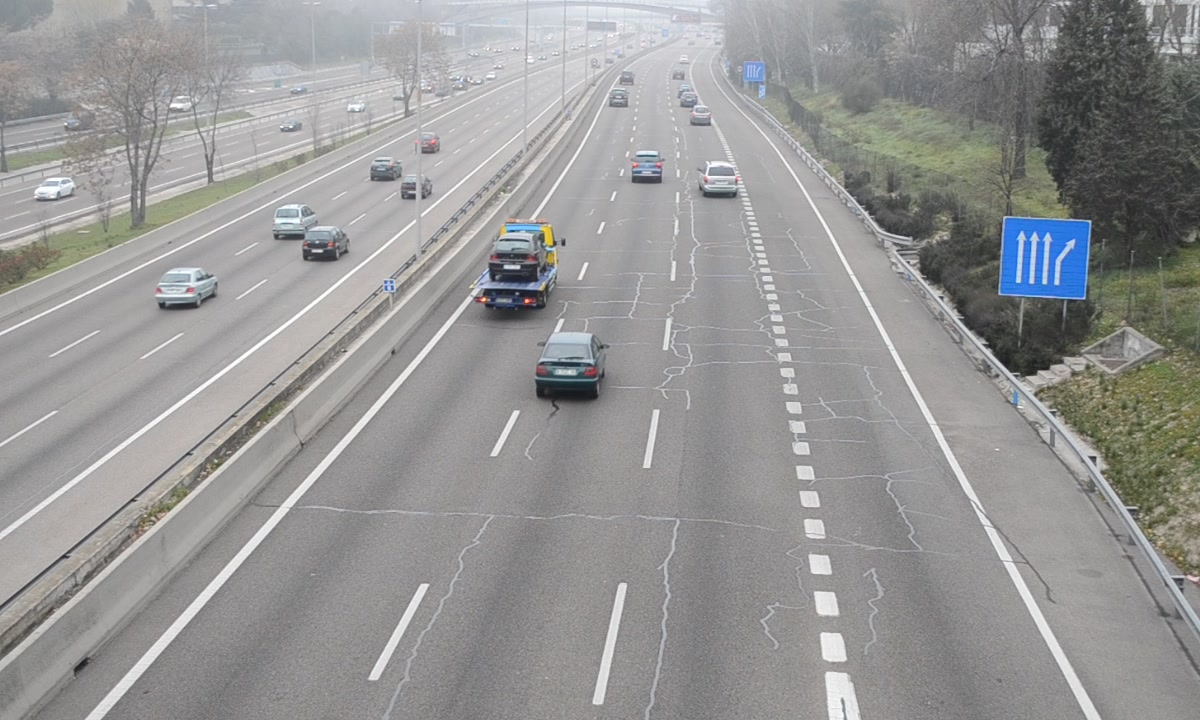car: (534, 332, 606, 395), (700, 161, 740, 196), (629, 150, 665, 181), (691, 102, 713, 127), (607, 86, 628, 106)
small-truck: (468, 219, 557, 314)
